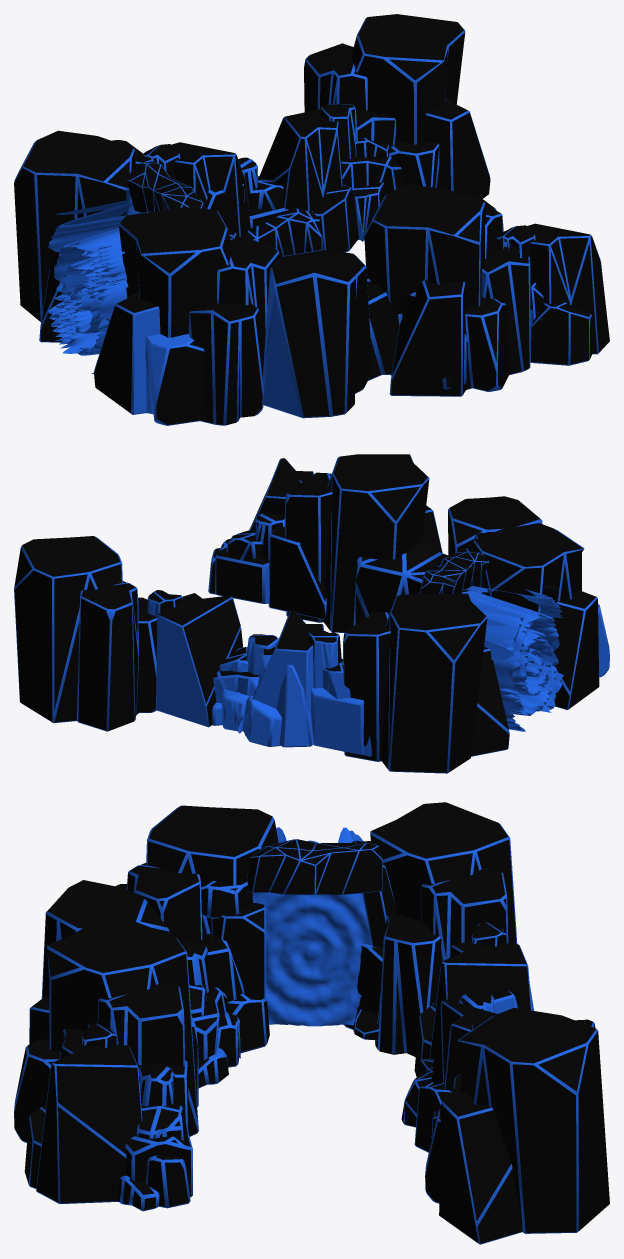
File: Portal.fbx
The picture shows the model from 3 angles, top to bottom: view 1: azimuth 30°, elevation 25°; view 2: azimuth 150°, elevation 25°; view 3: azimuth 270°, elevation 25°; orthographic projection. The views are drawn at different scales.
Parts seen in each view (by area): view 1: Cliff_04.001, Cliff_04.003, Cliff_04.002, Cliff_Rock_09.001, Cliff_04, Cliff_07.004, Cliff_07.005, Plane.002, Cliff_07, Cliff_Rock_10.001, Cliff_Rock_11, Cliff_Rock_10 (+1 smaller); view 2: Cliff_04, Cliff_04.002, Cliff_04.003, Cliff_04.001, Cliff_07.004, Cliff_07, Plane.002, Cliff_07.003, Cliff_07.001, Cliff_Rock_10.001, Cliff_Rock_09.001, Cliff_Rock_11 (+1 smaller); view 3: Cliff_04.002, Cliff_04, Cliff_04.003, Cliff_07.005, Plane, Cliff_04.001, Cliff_07.003, Cliff_07.002, Cliff_Rock_11, Cliff_07, Cliff_Rock_09.001, Cliff_07.004 (+6 smaller).
Part boxes in pixels (x1,y1,x2,y2): Cliff_04.001: [94, 207, 279, 425]; Cliff_04.003: [364, 184, 530, 396]; Cliff_04.002: [304, 14, 490, 198]; Cliff_Rock_09.001: [262, 249, 371, 418]; Cliff_04: [14, 130, 151, 342]; Cliff_07.004: [259, 104, 401, 252]; Cliff_07.005: [496, 223, 609, 365]; Plane.002: [48, 199, 150, 373]; Cliff_07: [143, 142, 250, 238]; Cliff_Rock_10.001: [367, 277, 468, 389]; Cliff_Rock_11: [126, 161, 204, 212]; Cliff_Rock_10: [244, 208, 322, 258]; Cliff_04: [343, 593, 509, 773]; Cliff_04.002: [14, 536, 157, 731]; Cliff_04.003: [285, 454, 442, 632]; Cliff_04.001: [472, 523, 609, 709]; Cliff_07.004: [147, 590, 242, 727]; Cliff_07: [245, 611, 371, 756]; Plane.002: [461, 586, 563, 731]; Cliff_07.003: [208, 512, 326, 619]; Cliff_07.001: [212, 634, 313, 747]; Cliff_Rock_10.001: [353, 542, 448, 625]; Cliff_Rock_09.001: [448, 496, 542, 555]; Cliff_Rock_11: [419, 548, 488, 593]; Cliff_04.002: [425, 1008, 609, 1244]; Cliff_04: [343, 802, 517, 1056]; Cliff_04.003: [14, 916, 198, 1142]; Cliff_07.005: [24, 1023, 142, 1203]; Plane: [252, 892, 371, 1026]; Cliff_04.001: [115, 805, 278, 943]; Cliff_07.003: [118, 1060, 192, 1211]; Cliff_07.002: [181, 934, 269, 1088]; Cliff_Rock_11: [247, 839, 382, 894]; Cliff_07: [414, 922, 531, 1077]; Cliff_Rock_09.001: [41, 880, 169, 998]; Cliff_07.004: [414, 999, 497, 1152].
Bounding box in the file's own units: 8291 × 2662 × 7617.
